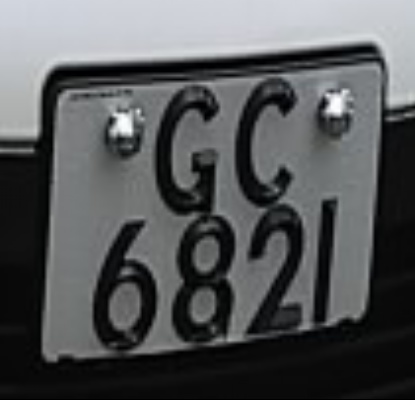1: (306, 190, 347, 333)
2: (236, 202, 316, 336)
6: (77, 216, 170, 356)
8: (159, 212, 246, 350)
C: (221, 73, 308, 207)
G: (137, 86, 231, 220)
